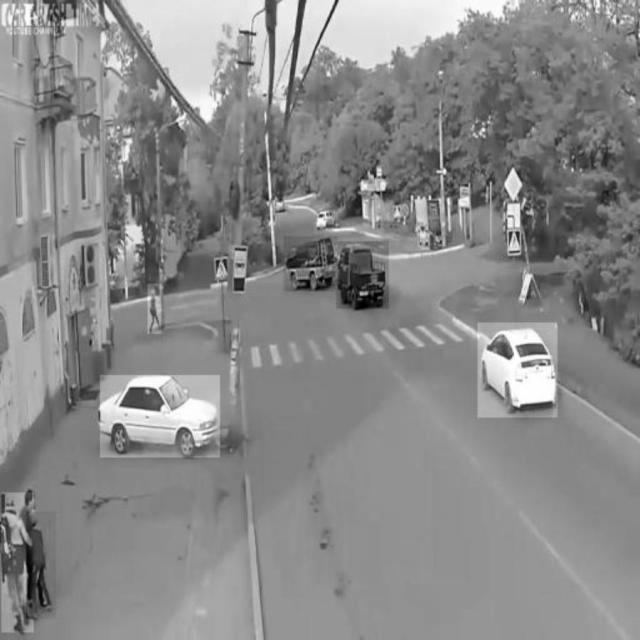person: (2, 493, 34, 633), (27, 512, 57, 620), (148, 284, 162, 334)
vehicle: (100, 375, 221, 457), (479, 323, 559, 417), (337, 242, 389, 309), (284, 237, 338, 292), (314, 205, 338, 233)
